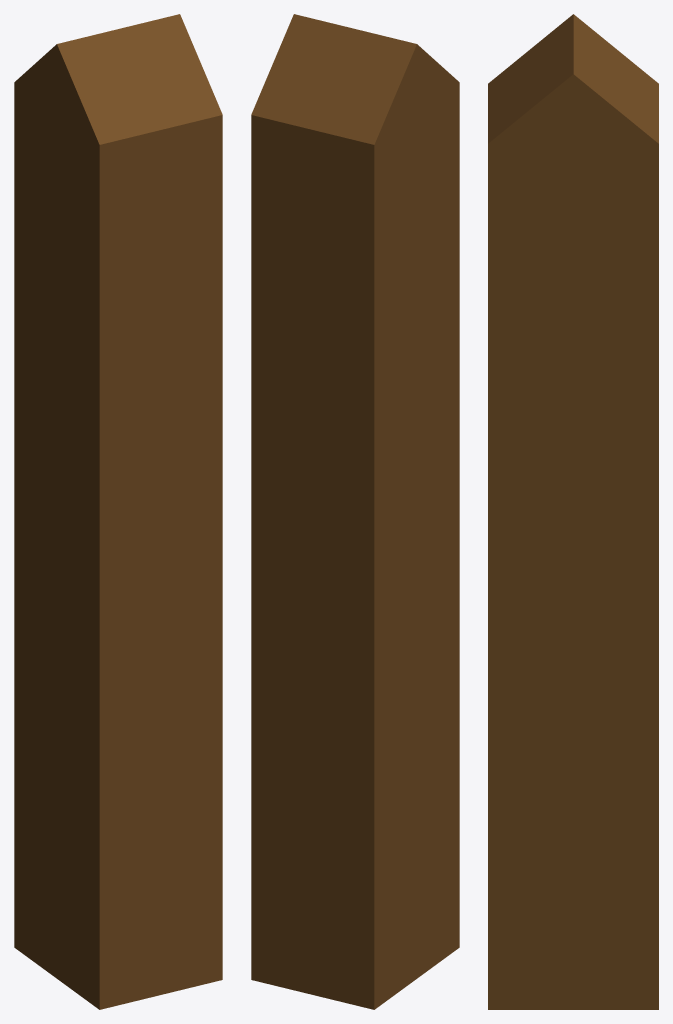
Rendered from Fence Post 2.fbx.
The picture shows the model from 3 angles, left to right: view 1: azimuth 30°, elevation 25°; view 2: azimuth 150°, elevation 25°; view 3: azimuth 270°, elevation 25°; orthographic projection.
Parts seen in each view (by area): view 1: Fence_post_2; view 2: Fence_post_2; view 3: Fence_post_2.
Part boxes in pixels (x1,y1,x2,y2): Fence_post_2: [14, 14, 222, 1009]; Fence_post_2: [251, 14, 459, 1009]; Fence_post_2: [488, 14, 658, 1009].
Size of the model in its own units: 21.82 by 158 by 26.2.
Materials: 1 (1 with a texture image).
